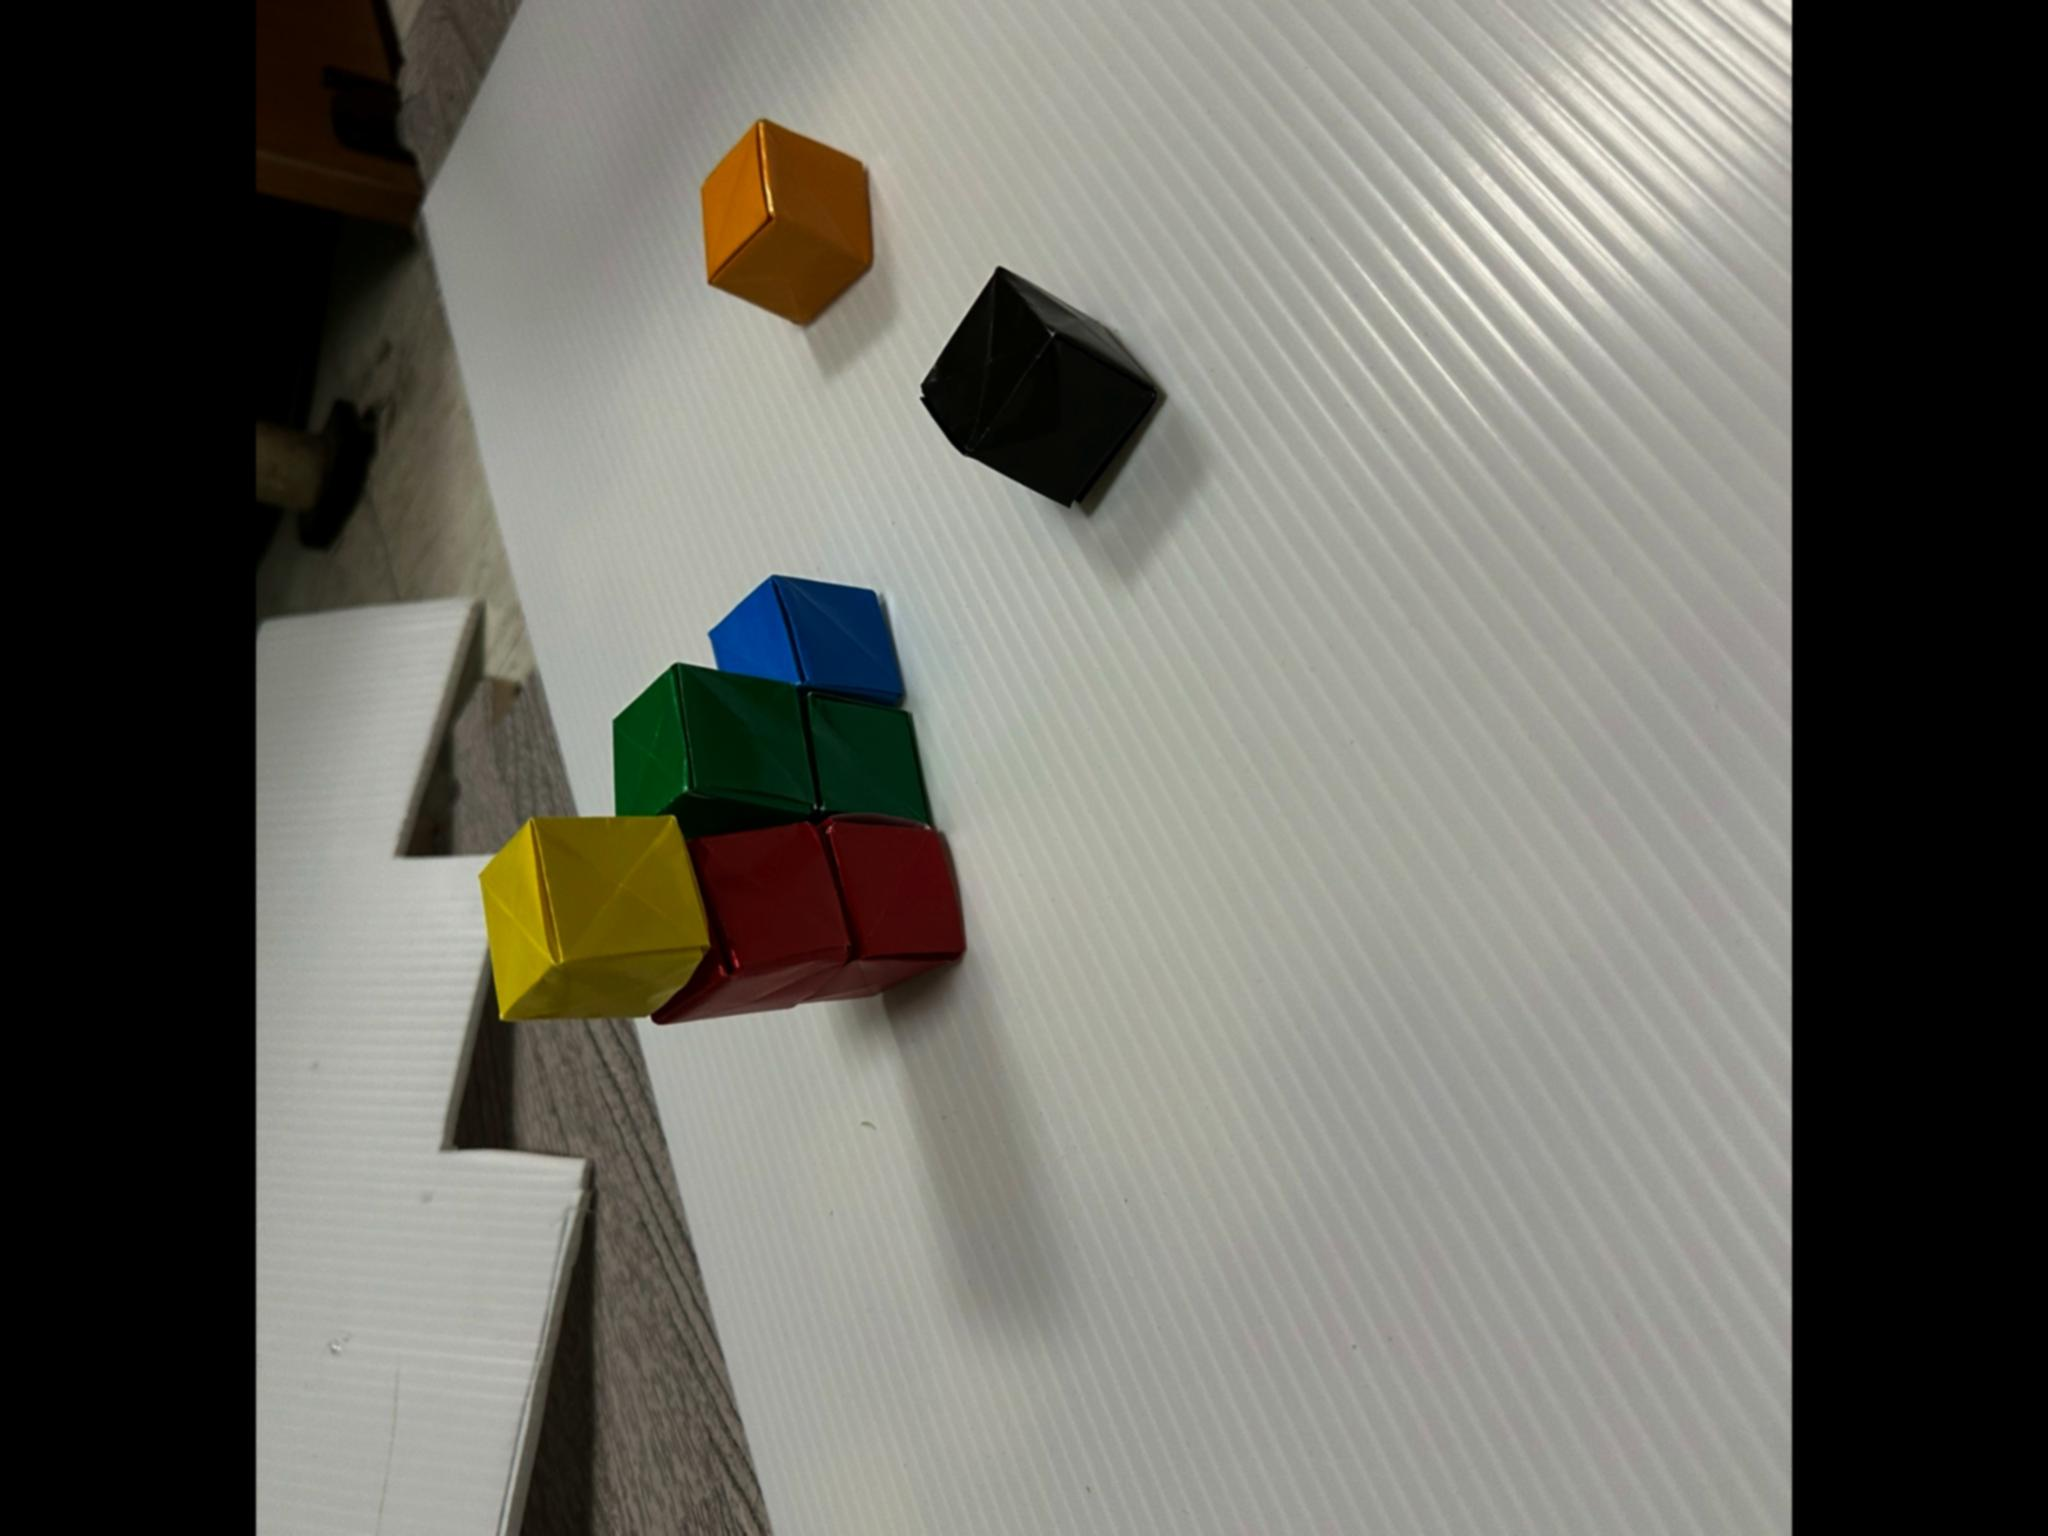base: (921, 268, 1156, 505), (481, 815, 708, 1018), (653, 821, 850, 1021), (614, 665, 818, 836), (701, 119, 871, 324), (800, 816, 964, 999), (710, 574, 903, 703), (800, 692, 929, 821)
